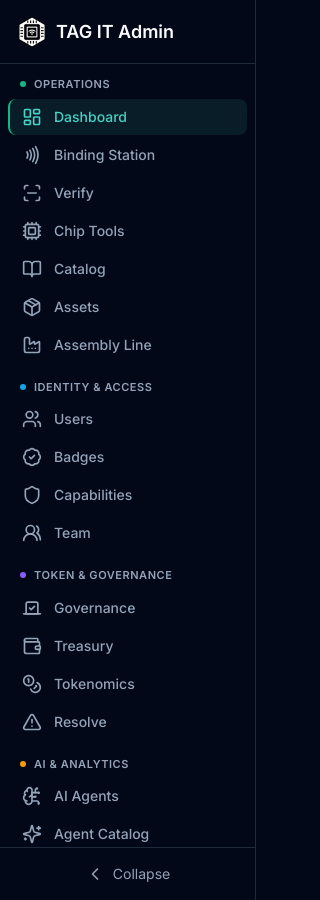
Test: Sidebar › expands sidebar when expand button is clicked
The image size is (320, 900).
Click the button titled "Collapse" at (128, 874), box [8,856,247,892]
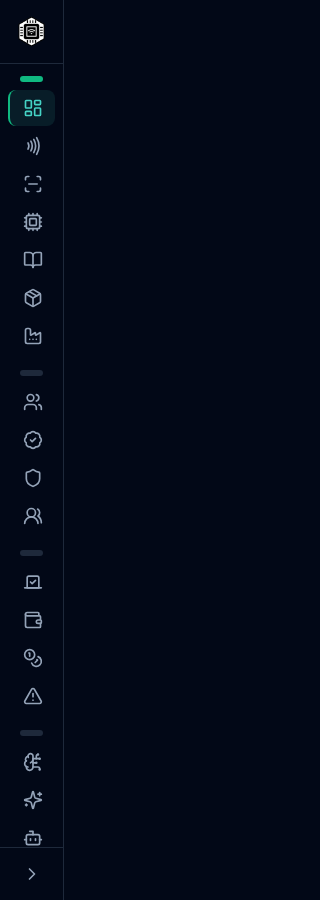
Click the button titled "Expand" at (32, 874), box [8,856,55,892]
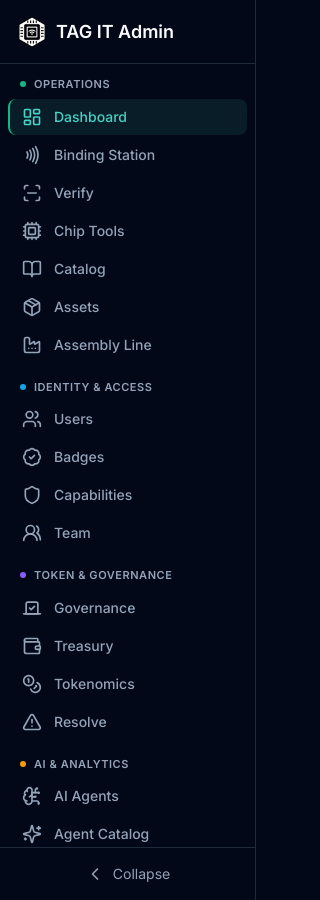
Expected: the text "TAG IT Admin" is shown, [56,18,174,46]
Expected: the text "Dashboard" is shown, [54,106,127,126]
